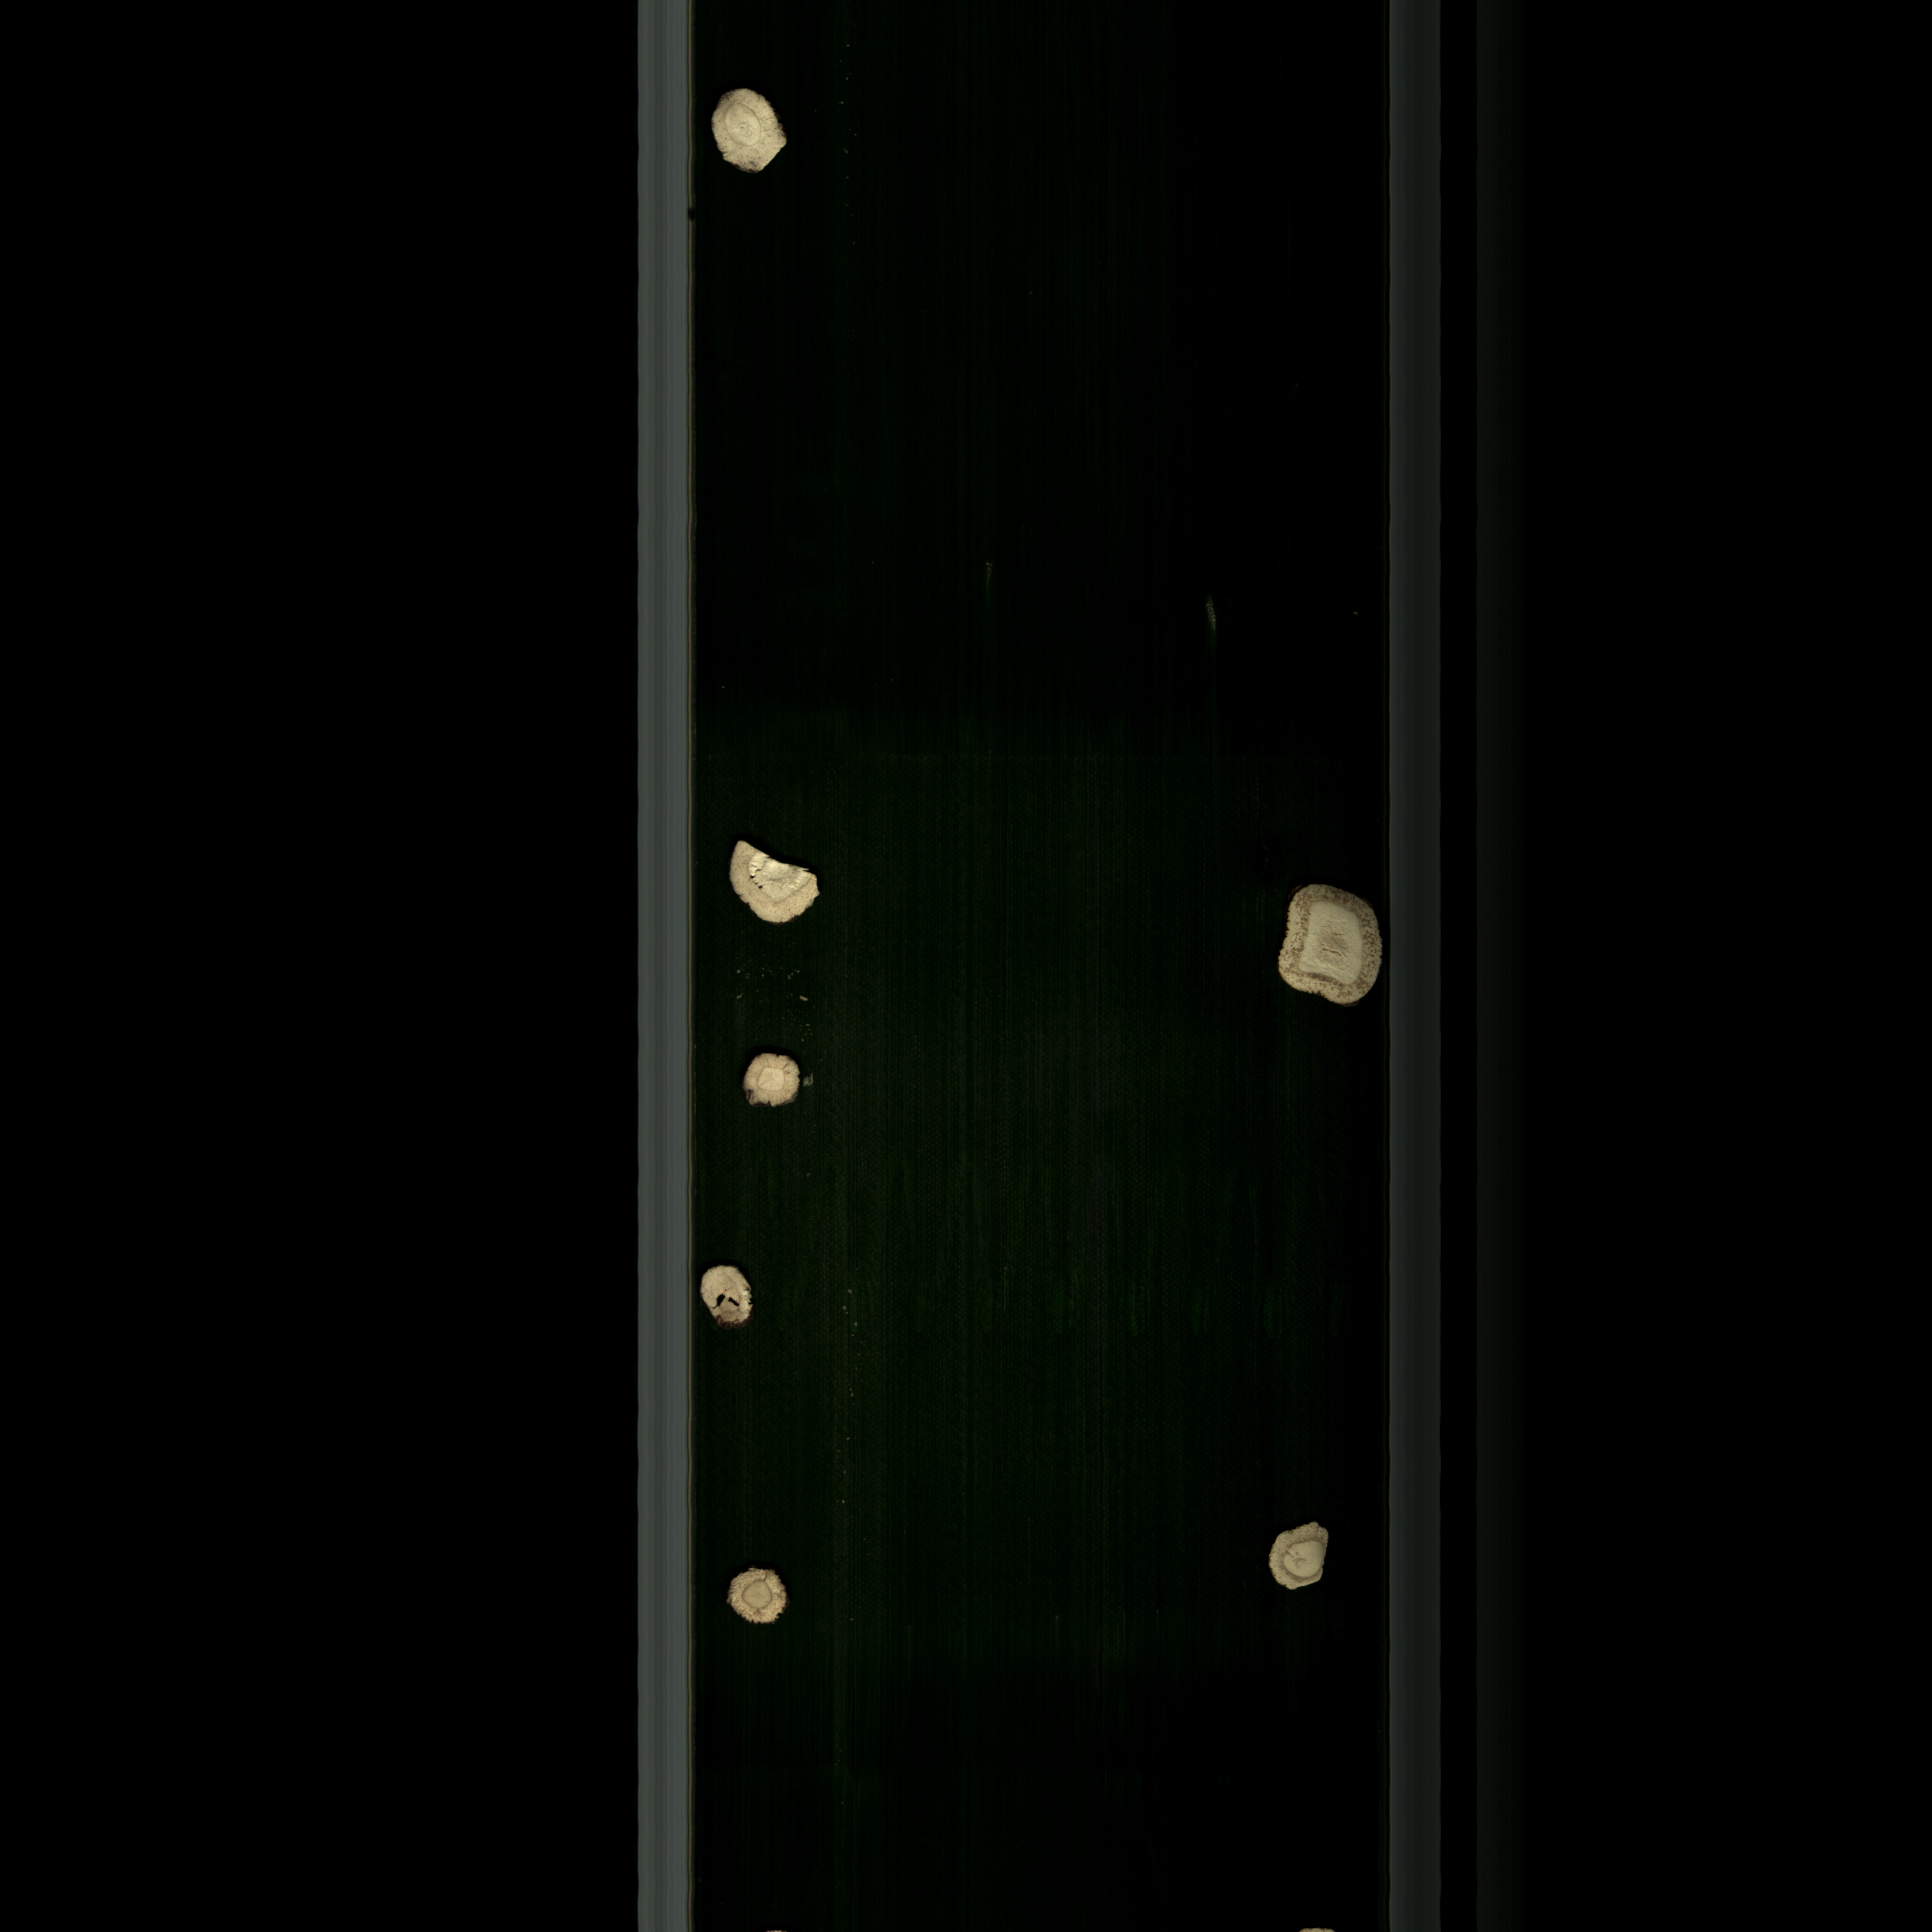debris: (720, 830, 833, 938)
distortion: (1254, 872, 1385, 1016)
hole: (699, 1260, 764, 1334)
moldy: (697, 83, 793, 195), (1260, 1509, 1334, 1614)
